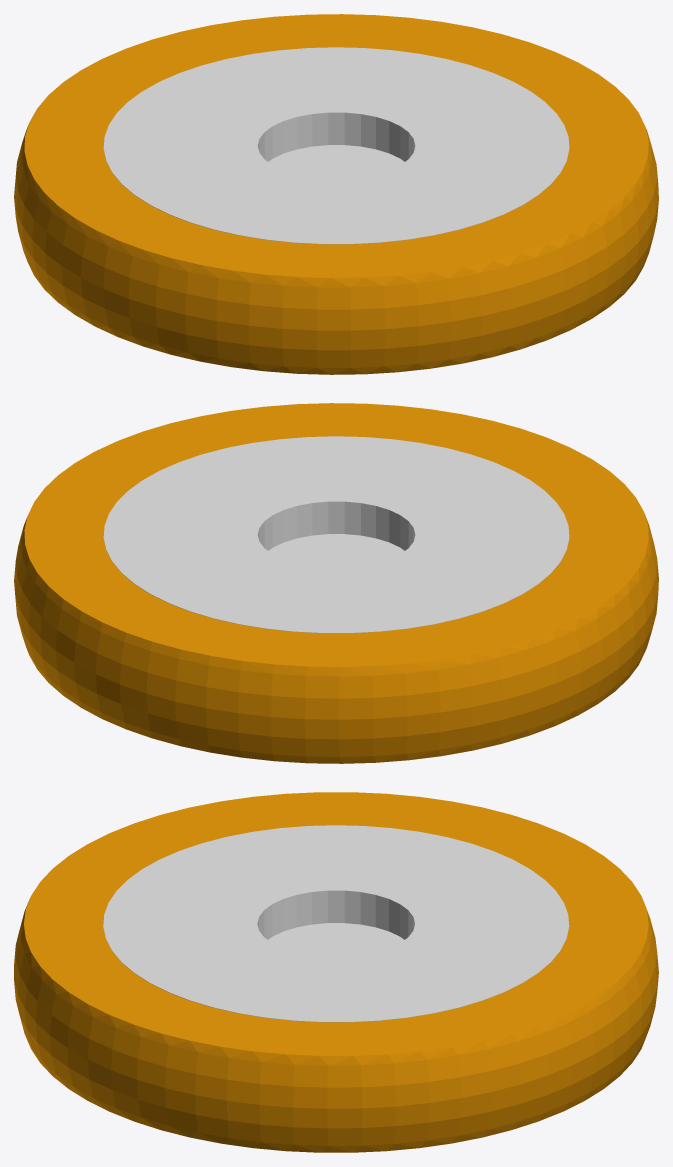
Rendered from MPO-700-WHEEL.obj.
The picture shows the model from 3 angles, top to bottom: view 1: azimuth 30°, elevation 25°; view 2: azimuth 150°, elevation 25°; view 3: azimuth 270°, elevation 25°; orthographic projection.
Bounding box in the file's own units: 180 × 30 × 180.
1 material, 1 textured.
